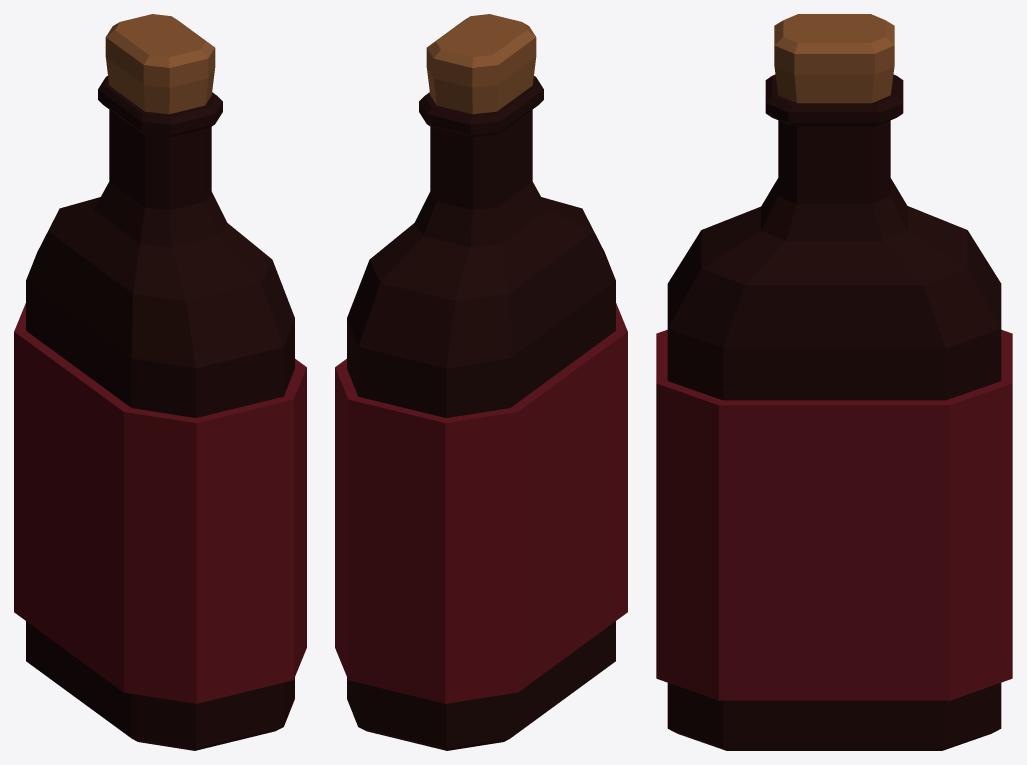
Rendered from ww_bottle_d.glb.
3 views of the same model, side by side, from view 1: azimuth 30°, elevation 25°; view 2: azimuth 150°, elevation 25°; view 3: azimuth 270°, elevation 25° (orthographic). The views are drawn at different scales.
Parts seen in each view (by area): view 1: Bottle_D; view 2: Bottle_D; view 3: Bottle_D.
Part boxes in pixels (bbox=[...]): Bottle_D: bbox=[14, 14, 306, 750]; Bottle_D: bbox=[335, 14, 627, 750]; Bottle_D: bbox=[656, 14, 1012, 750].
Bounding box in the file's own units: 0.063 × 0.2139 × 0.1009.
